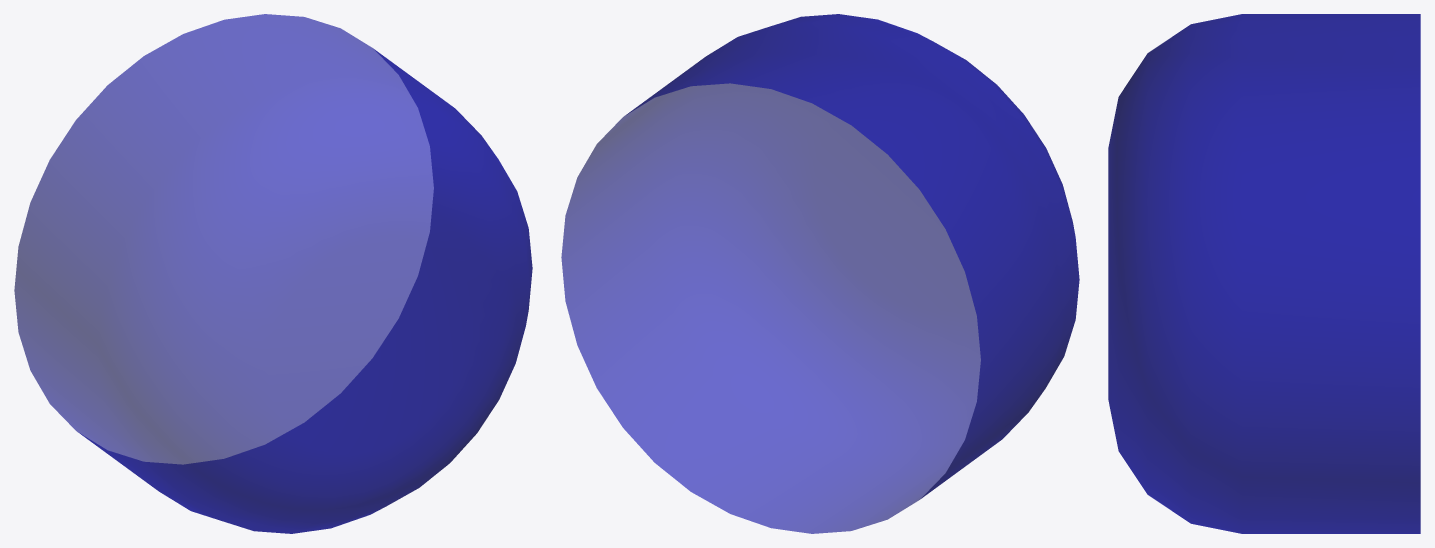
Rendered from ButtonsGlass_MouseBlueTrans_0.dae.
The picture shows the model from 3 angles, left to right: view 1: azimuth 30°, elevation 25°; view 2: azimuth 150°, elevation 25°; view 3: azimuth 270°, elevation 25°; orthographic projection. The views are drawn at different scales.
Parts seen in each view (by area): view 1: ButtonsGlass_MouseBlueTrans_0; view 2: ButtonsGlass_MouseBlueTrans_0; view 3: ButtonsGlass_MouseBlueTrans_0.
Part boxes in pixels (x1,y1,x2,y2): ButtonsGlass_MouseBlueTrans_0: [14, 14, 532, 533]; ButtonsGlass_MouseBlueTrans_0: [561, 14, 1079, 533]; ButtonsGlass_MouseBlueTrans_0: [1108, 14, 1420, 533].
Size of the model in its own units: 0.00794 by 0.00794 by 0.00477.
